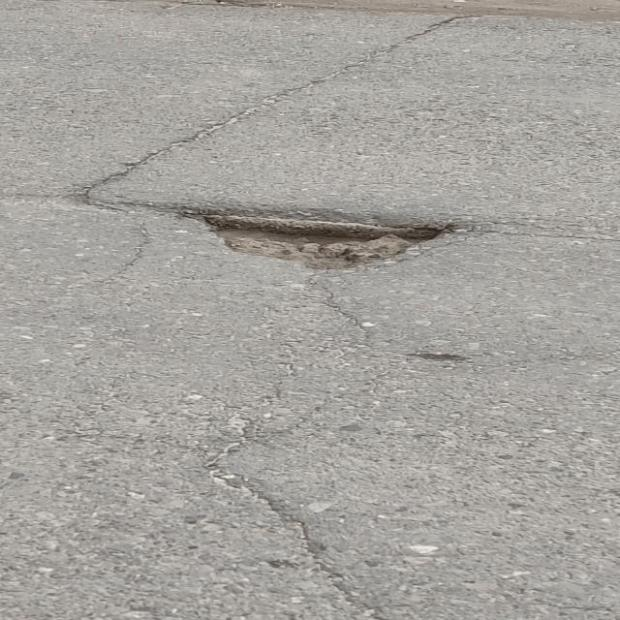lubang: (176, 207, 452, 267)
